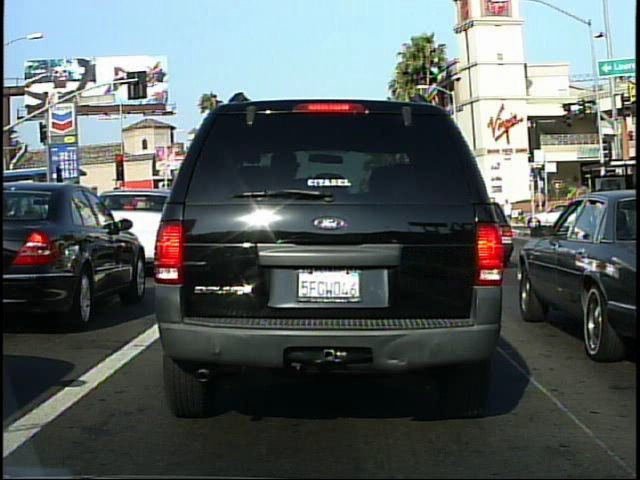person: (591, 184, 613, 243), (502, 197, 516, 226)
